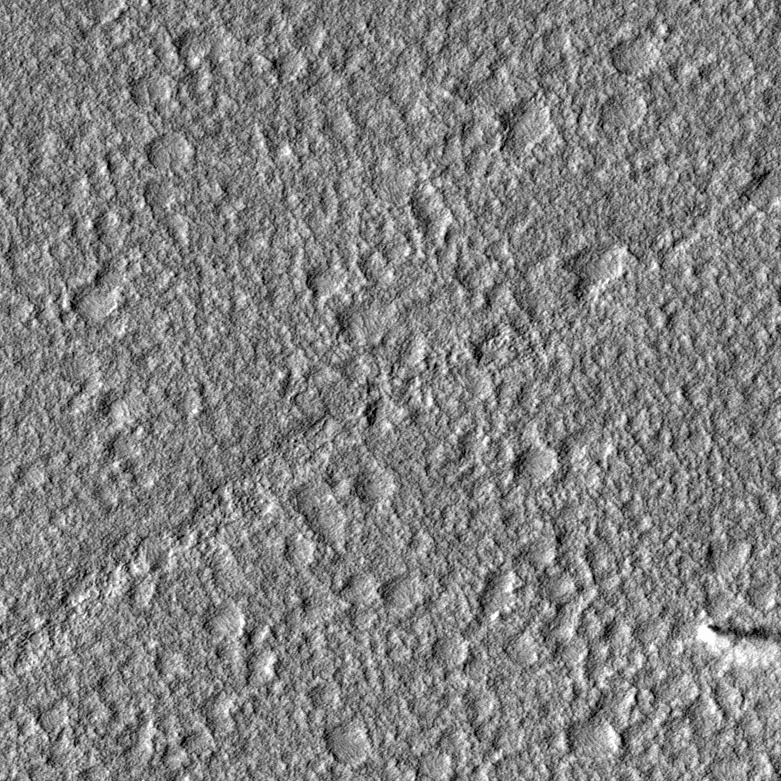dust_devil: (691, 620, 781, 668)
